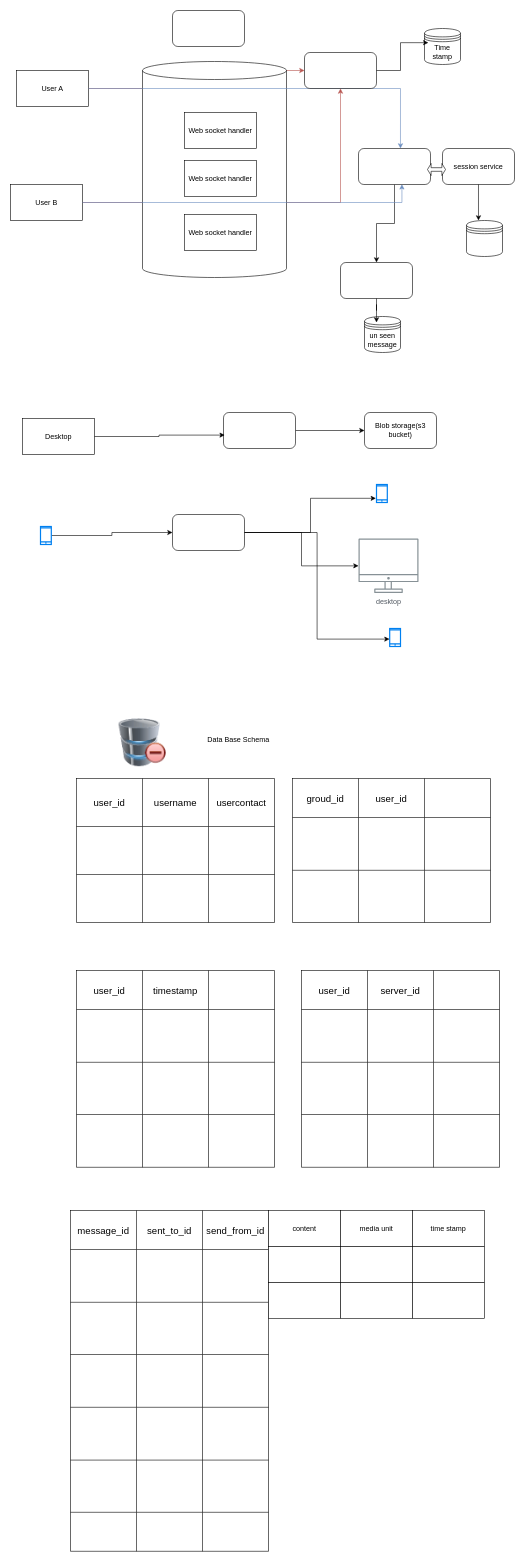
Some shapes in this 525 by 1562 pixel diagram are drawn without their labels. Here are the shapes that lost their labels. From the top down, the centre of each, then its label:
point 208,28: Web Sockets
point 340,70: lastseenn service
point 394,166: message service
point 484,238: user DB
point 376,280: Relay service
point 259,430: Assert service
point 208,532: Group service
